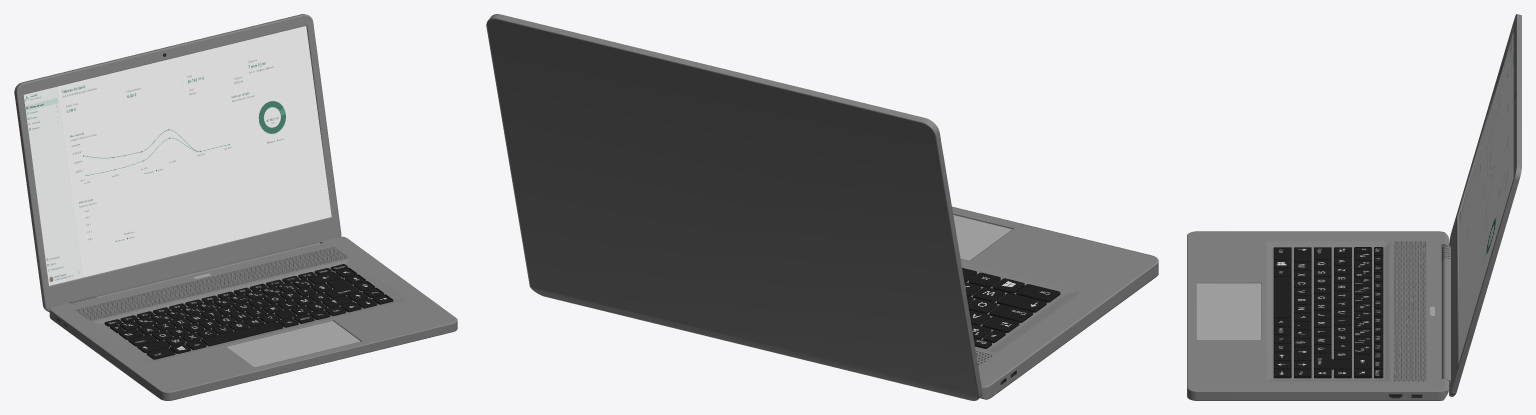
Rendered from laptop.glb.
The picture shows the model from 3 angles, left to right: view 1: azimuth 30°, elevation 25°; view 2: azimuth 150°, elevation 25°; view 3: azimuth 270°, elevation 25°; orthographic projection. The views are drawn at different scales.
Visible parts, largest first — view 1: Monitor, Body, Keyboard; view 2: Monitor, Body, Keyboard; view 3: Body, Monitor, Keyboard.
Boxes of the visible parts, x1=… form: Monitor: x1=14, y1=14, x2=341, y2=312; Body: x1=49, y1=236, x2=457, y2=400; Keyboard: x1=104, y1=264, x2=393, y2=359; Monitor: x1=486, y1=14, x2=982, y2=400; Body: x1=952, y1=206, x2=1158, y2=399; Keyboard: x1=962, y1=268, x2=1060, y2=348; Body: x1=1187, y1=231, x2=1448, y2=400; Monitor: x1=1442, y1=14, x2=1521, y2=396; Keyboard: x1=1273, y1=247, x2=1383, y2=378.
Size of the model in its own units: 35.81 by 24.04 by 31.67.
Materials: 5 (3 with a texture image).
